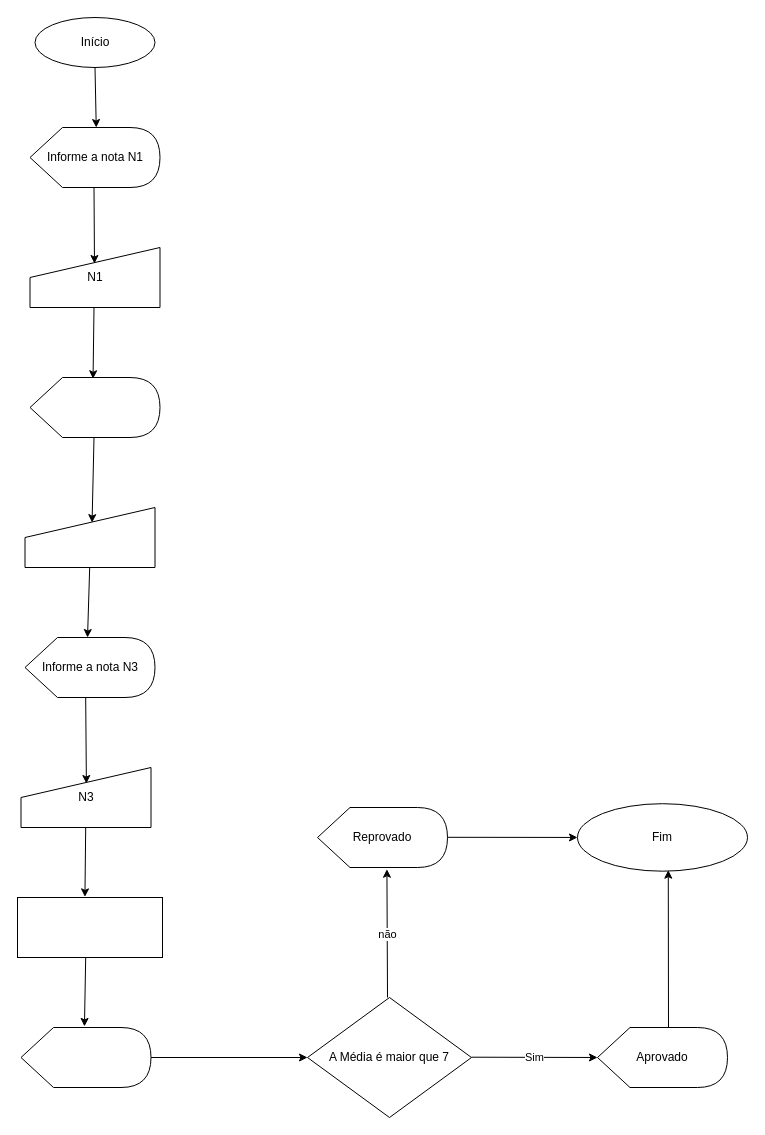
Image size: 765x1135. Some labels were removed from this diagram. Each missing label, with the centre of its shape:
"Informe a nota N2" belongs at [94,407].
"Média" belongs at [85,1057].
"Média = (N1+N2+N3) / 3" belongs at [89,927].
"N2" belongs at [89,537].
